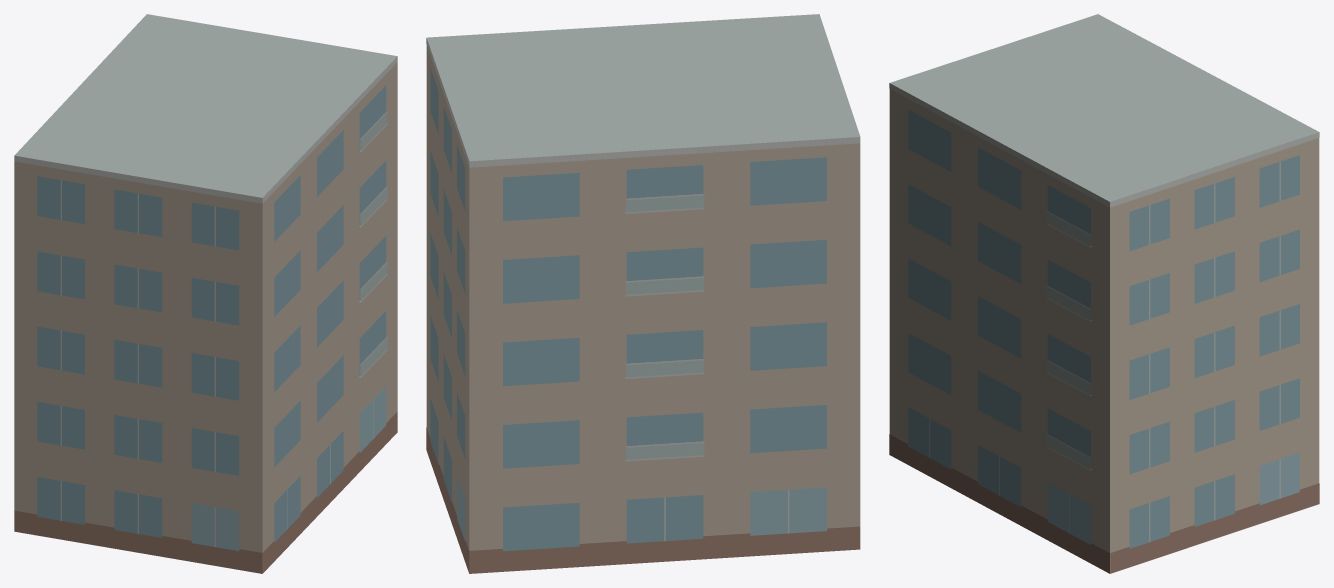
Rendered from survey-upis-33031669.glb.
3 views of the same model, side by side, from view 1: azimuth 30°, elevation 25°; view 2: azimuth 150°, elevation 25°; view 3: azimuth 270°, elevation 25° (orthographic). The views are drawn at different scales.
Visible parts, largest first — view 1: survey-upis-33031669.tmp; view 2: survey-upis-33031669.tmp; view 3: survey-upis-33031669.tmp.
Boxes of the visible parts, bbox=[...] form: survey-upis-33031669.tmp: bbox=[14, 14, 397, 573]; survey-upis-33031669.tmp: bbox=[426, 14, 860, 573]; survey-upis-33031669.tmp: bbox=[889, 14, 1319, 573].
Bounding box in the file's own units: 17.24 × 15.9 × 16.67.
